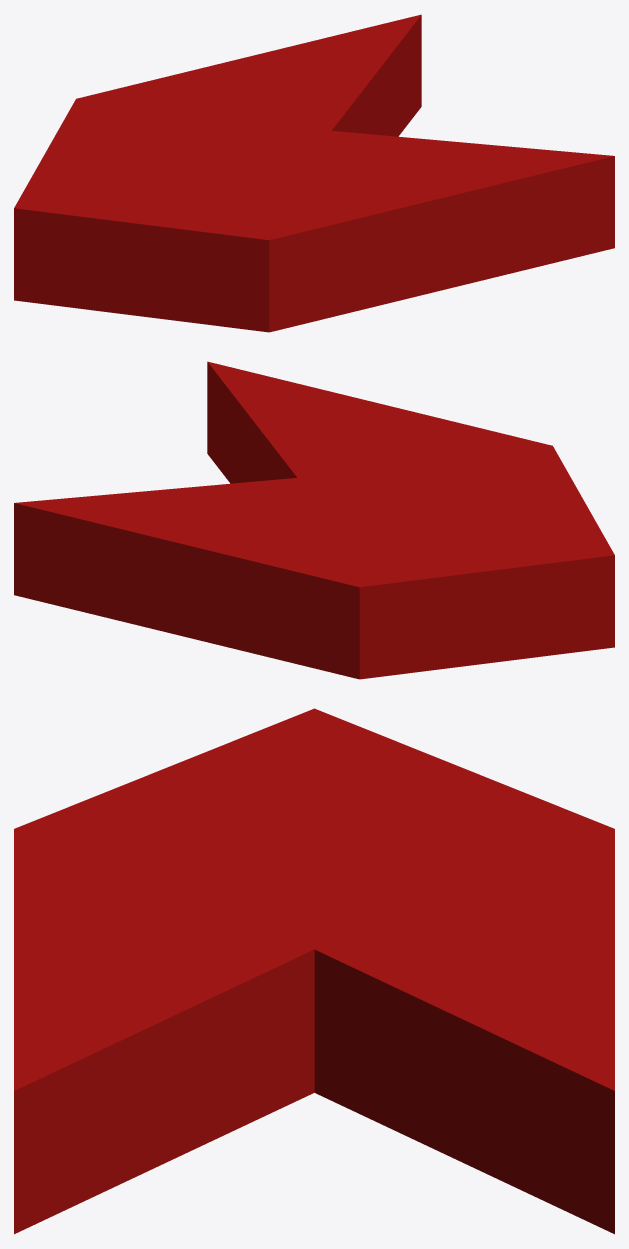
The model's file is chevron.dae.
The picture shows the model from 3 angles, top to bottom: view 1: azimuth 30°, elevation 25°; view 2: azimuth 150°, elevation 25°; view 3: azimuth 270°, elevation 25°; orthographic projection. The views are drawn at different scales.
Parts seen in each view (by area): view 1: Cube; view 2: Cube; view 3: Cube.
Part boxes in pixels (x1,y1,x2,y2): Cube: [14, 14, 614, 332]; Cube: [14, 361, 614, 679]; Cube: [14, 708, 614, 1234].
Bounding box in the file's own units: 0.229 × 0.152 × 0.04.
